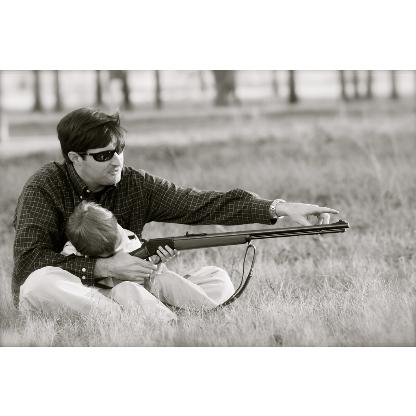gun: (84, 218, 346, 288)
